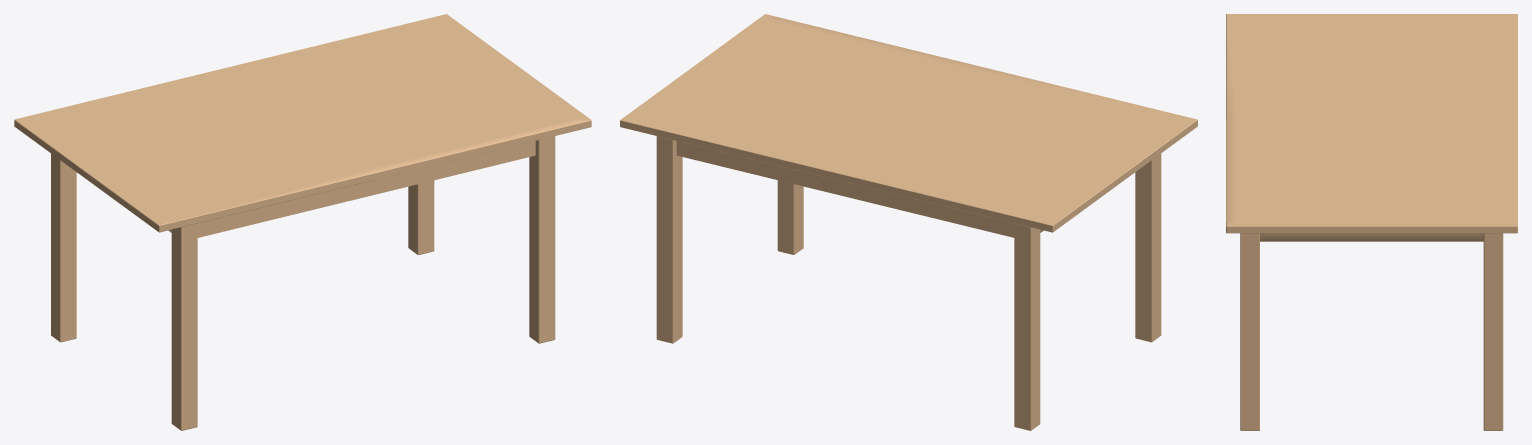
File: Table.FBX
The picture shows the model from 3 angles, left to right: view 1: azimuth 30°, elevation 25°; view 2: azimuth 150°, elevation 25°; view 3: azimuth 270°, elevation 25°; orthographic projection.
Parts seen in each view (by area): view 1: Table; view 2: Table; view 3: Table.
Part boxes in pixels (x1,y1,x2,y2): Table: [14, 14, 591, 430]; Table: [620, 14, 1197, 430]; Table: [1226, 14, 1517, 430].
Bounding box in the file's own units: 155 × 74.62 × 90.
